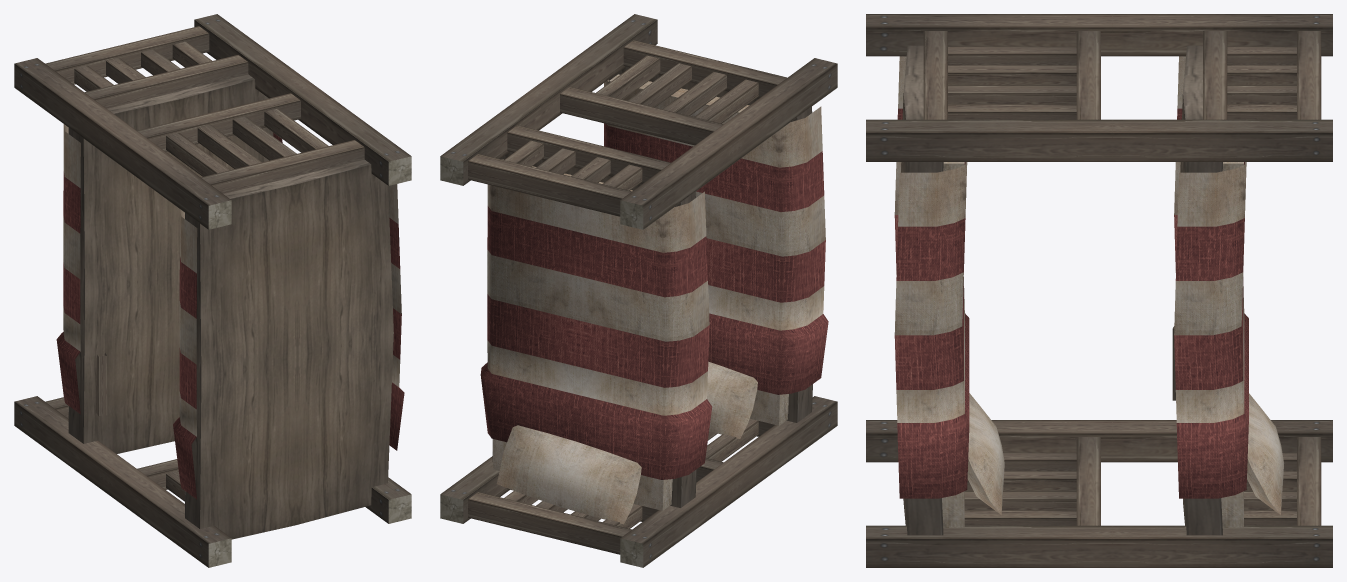
File: Bed_Bunk_C.fbx
The picture shows the model from 3 angles, left to right: view 1: azimuth 30°, elevation 25°; view 2: azimuth 150°, elevation 25°; view 3: azimuth 270°, elevation 25°; orthographic projection. The views are drawn at different scales.
Parts seen in each view (by area): view 1: Bed_Bunk_C; view 2: Bed_Bunk_C; view 3: Bed_Bunk_C.
Boxes of the visible parts, x1,y1,x2,y2 form: Bed_Bunk_C: (14, 14, 411, 567); Bed_Bunk_C: (440, 14, 837, 567); Bed_Bunk_C: (866, 14, 1332, 567).
Bounding box in the file's own units: 2.29 × 3.73 × 3.62.
